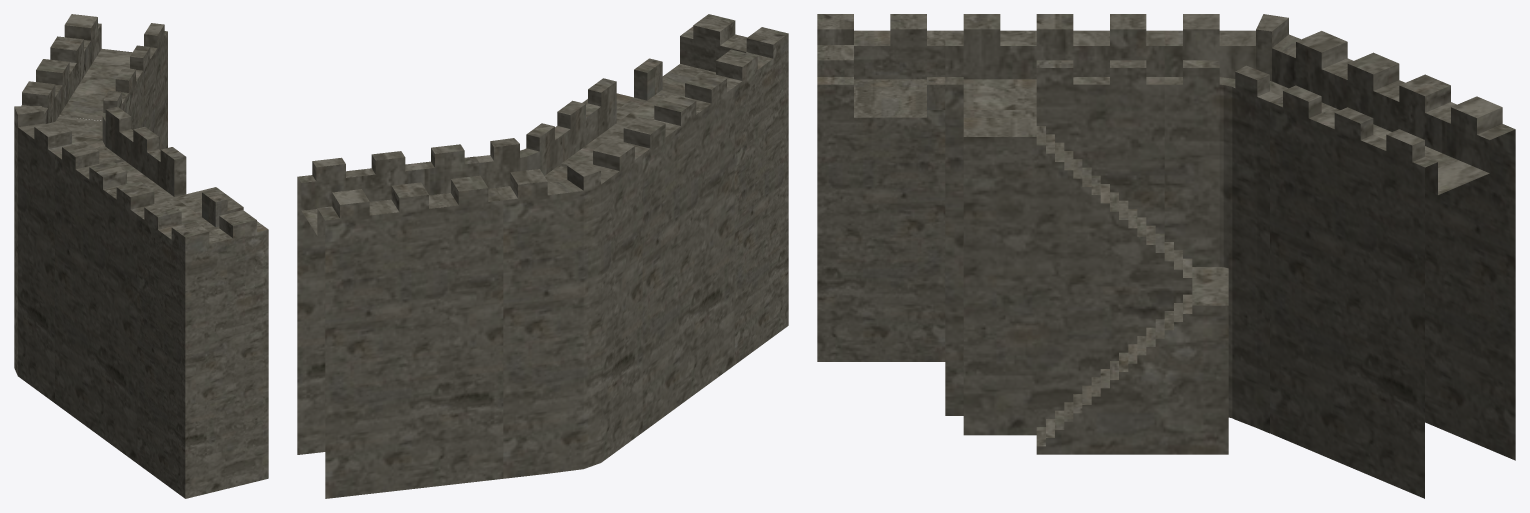
File: WalkwayWallsTest.fbx
The picture shows the model from 3 angles, left to right: view 1: azimuth 30°, elevation 25°; view 2: azimuth 150°, elevation 25°; view 3: azimuth 270°, elevation 25°; orthographic projection. The views are drawn at different scales.
Parts seen in each view (by area): view 1: Wall_W_Corner_90, Wall_W_Stairs.001, Wall_W_Corner_45, Wall_W_Straight; view 2: Wall_W_Straight, Wall_W_Corner_45, Wall_W_Stairs.001, Wall_W_Corner_90; view 3: Wall_W_Stairs.001, Wall_W_Straight, Wall_W_Corner_90, Wall_W_Corner_45.
Part boxes in pixels (x1,y1,x2,y2): Wall_W_Corner_90: [137, 194, 268, 498]; Wall_W_Stairs.001: [55, 127, 243, 463]; Wall_W_Corner_45: [14, 81, 133, 402]; Wall_W_Straight: [36, 14, 167, 149]; Wall_W_Straight: [297, 144, 503, 498]; Wall_W_Corner_45: [476, 123, 642, 478]; Wall_W_Stairs.001: [555, 64, 734, 431]; Wall_W_Corner_90: [642, 14, 788, 364]; Wall_W_Stairs.001: [945, 14, 1228, 454]; Wall_W_Straight: [1270, 52, 1515, 498]; Wall_W_Corner_90: [817, 14, 945, 361]; Wall_W_Corner_45: [1164, 14, 1353, 433].
Size of the model in its own units: 886 by 1051 by 1910.
